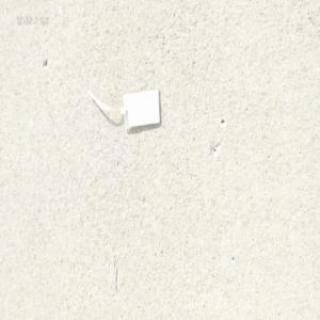LuggageTagtrack_idkeyframe: (87, 75, 163, 134)
